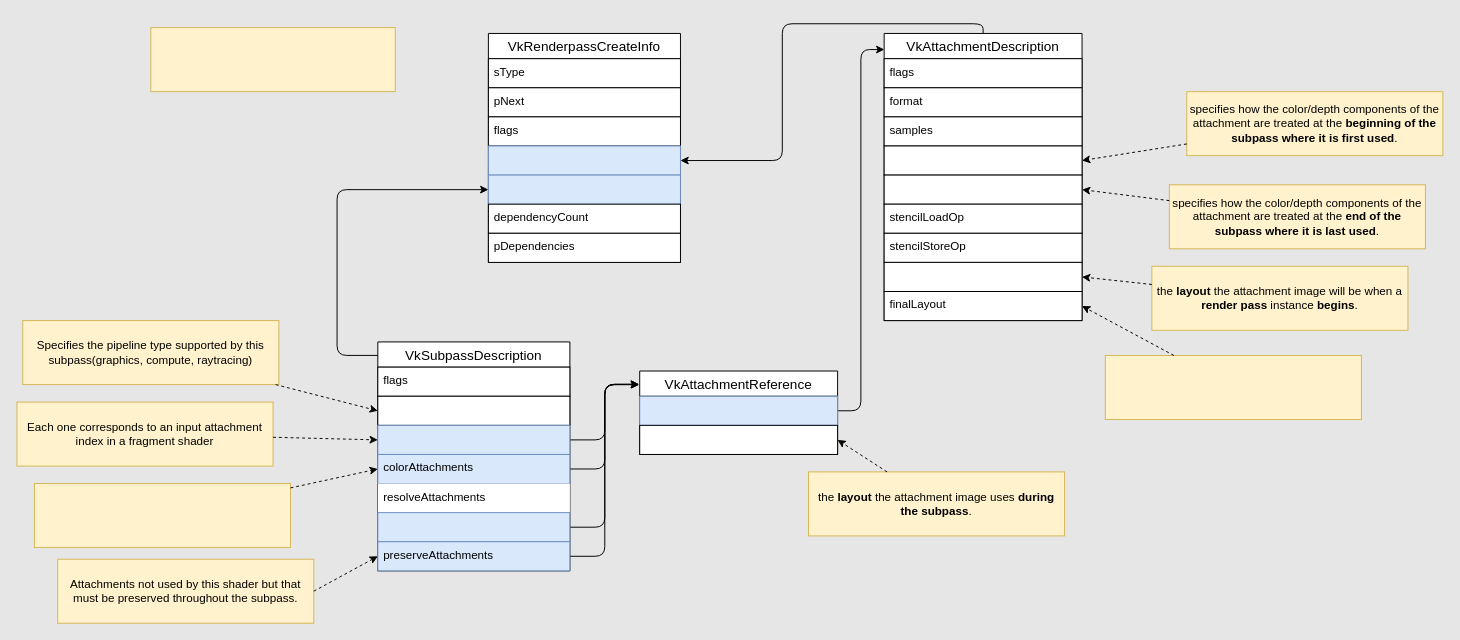
Some shapes in this 1460 by 640 pixel diagram are drawn without their labels. Here are the shapes that lost their labels. From the top down, the centre of each, then its label:
At point 272,59: "A render pass info contains a number of attachments (framebuffers) & subpasses.".
At point 583,160: "attachments".
At point 982,160: "loadOp".
At point 583,189: "subpasses".
At point 982,189: "storeOp".
At point 982,276: "initialLayout".
At point 1232,387: "the layout the attachment image will be when a render pass instance ends .".
At point 473,410: "pipelineBindPoint".
At point 738,410: "attachment".
At point 473,439: "inputAttachments".
At point 738,439: "layout".
At point 162,515: "Each one corresponds to an output location in the shader".
At point 473,527: "depthStencilAttachment".
